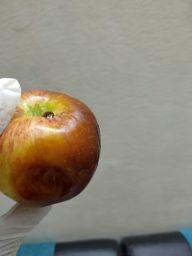Apple Rotten: (1, 84, 105, 211)
